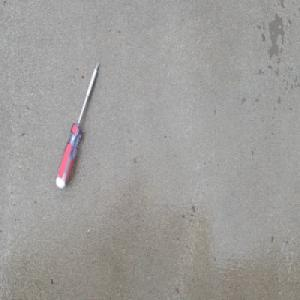Screwdriver: (55, 59, 100, 190)
